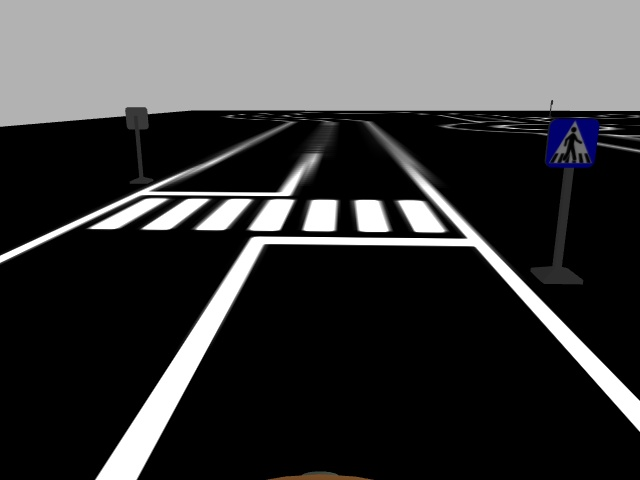crosswalk: (545, 115, 601, 172)
